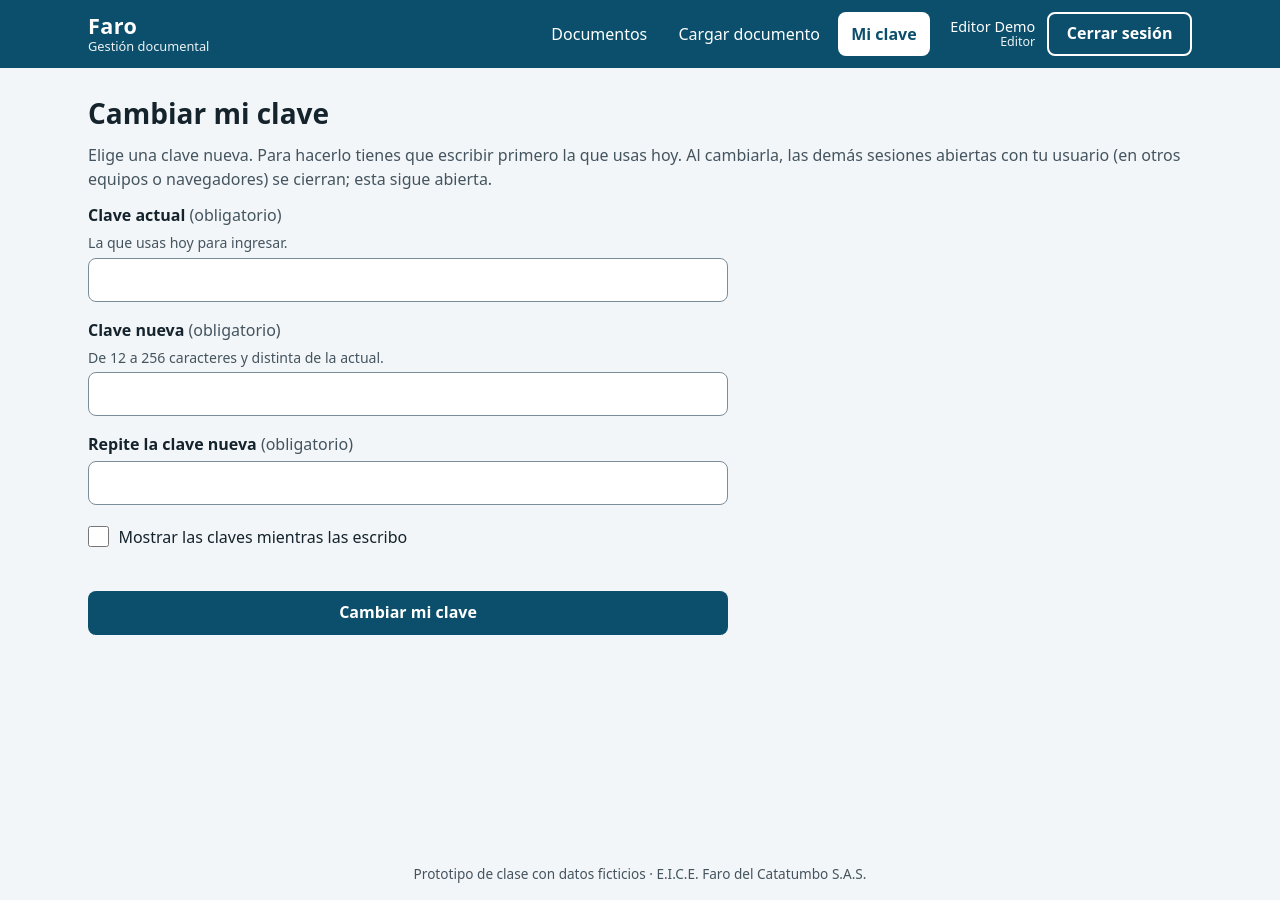
Test: cambiar mi clave (voluntario) › con todo vacío señala los tres campos, pone el foco en el primero y no envía nada
Expected: the heading "Cambiar mi clave" is shown, [88,94,329,132]
Click the button "Cambiar mi clave".
click(408, 613)  # box [88,591,728,635]
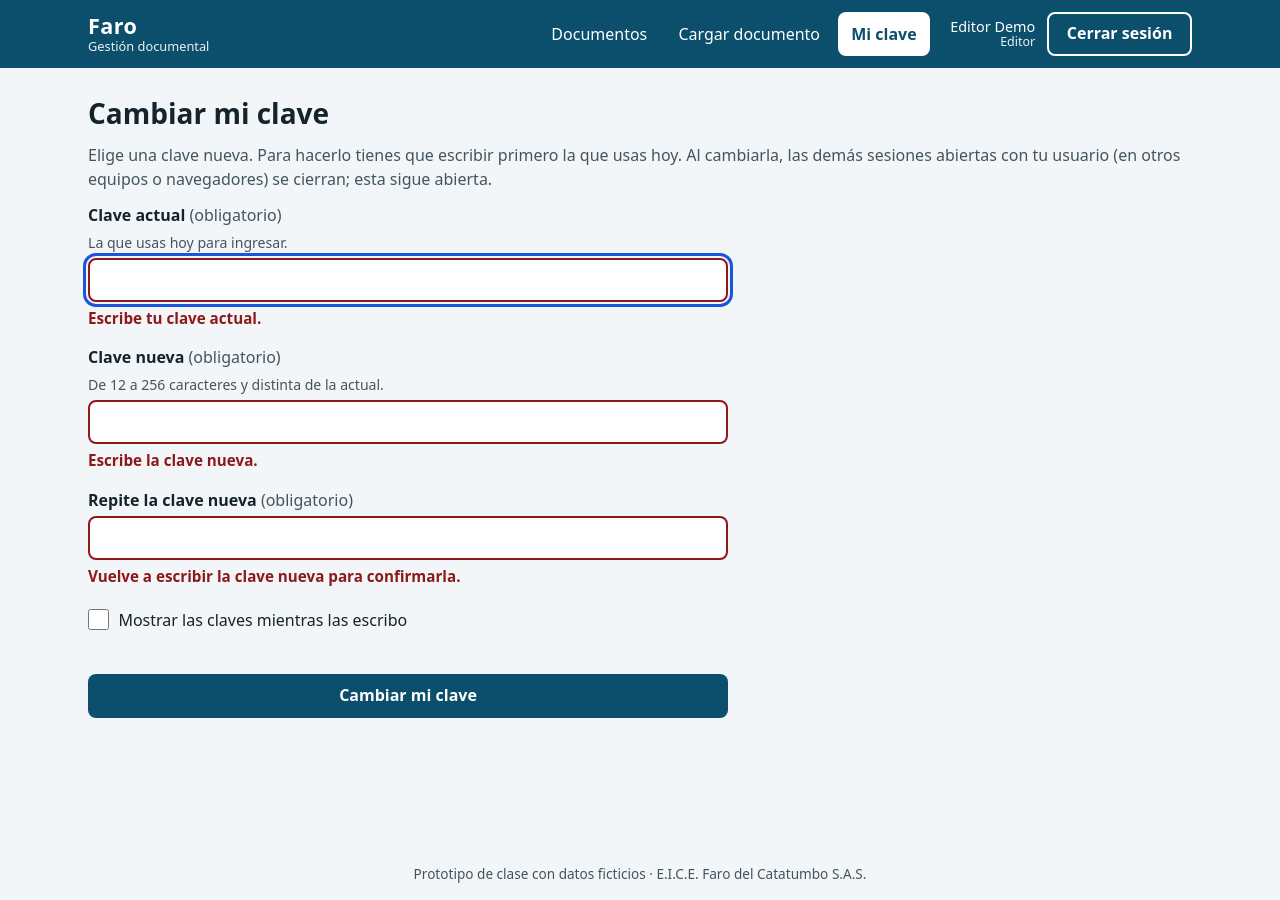
Result: the text "Escribe tu clave actual." is shown at [88,308,261,328]
Result: the text "Escribe la clave nueva." is shown at [88,450,258,470]
Result: the text "Vuelve a escribir la clave nueva para confirmarla." is shown at [88,566,460,586]
